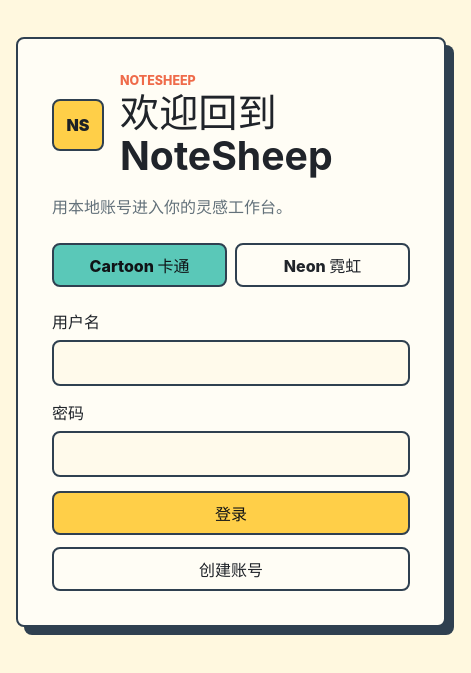
it: Auth screen › switches between login and register modes
expect the heading "欢迎回到 NoteSheep" is shown: met, box [120,89,333,179]
Click the button "创建账号" at (231, 569), box [52,547,410,591]
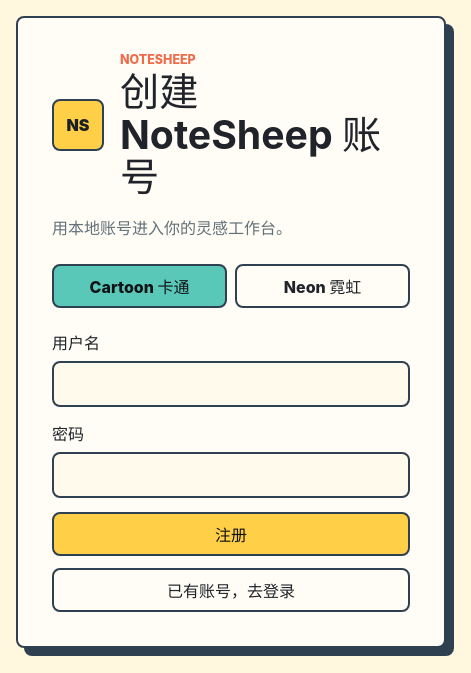
expect the heading "创建 NoteSheep 账号" is shown: met, box [120,71,410,198]
